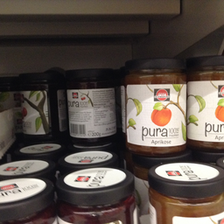jam: (125, 58, 189, 154), (148, 160, 223, 224), (56, 167, 140, 224), (64, 68, 118, 142), (189, 55, 224, 150), (18, 72, 66, 139)
